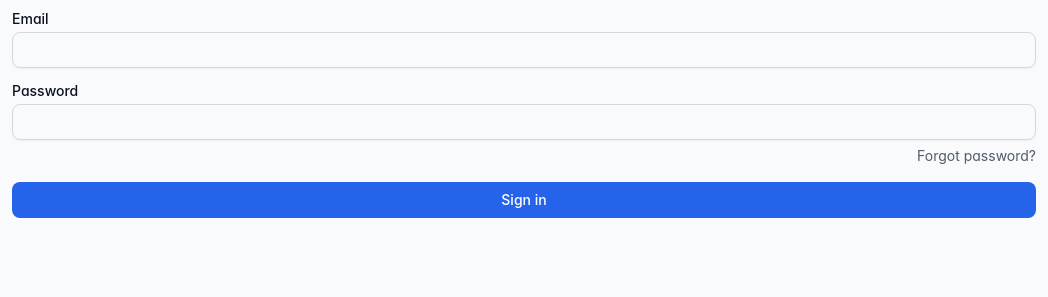
Scenario: LoginForm › explains rate limiting with the wait time
In the field labelled "Email": (524, 50) [12, 32, 1036, 68], type "dana@acme.com"
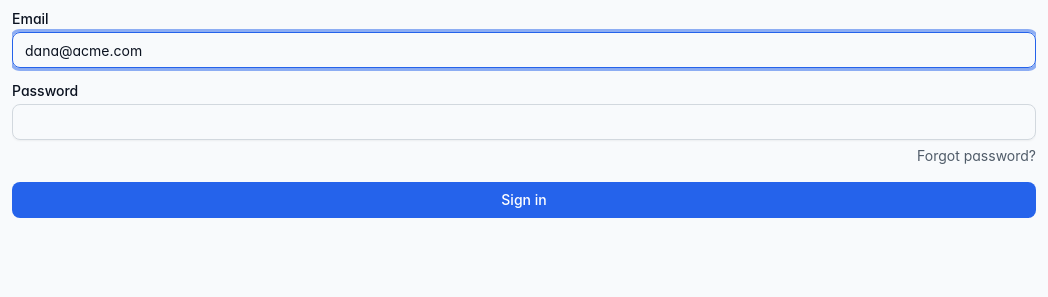
In the password field labelled "Password": (524, 122) [12, 104, 1036, 140], type "hunter2 hunter2"
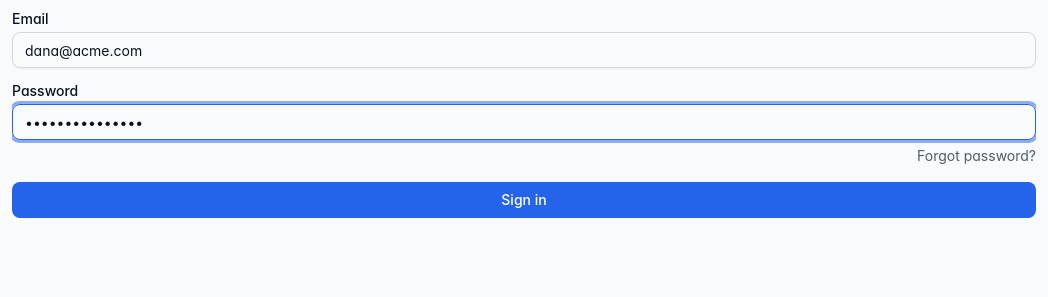
Click the button "Sign in": click(524, 200) [12, 182, 1036, 218]
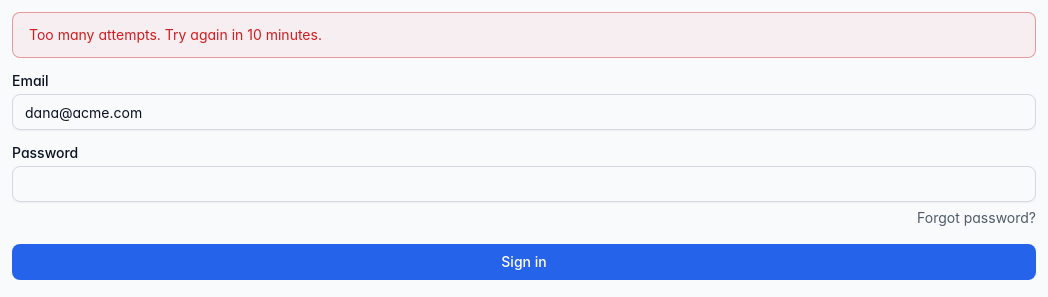
Check: the message reads "Too many attempts. Try again in 10 minutes.", box [29, 26, 322, 43]
